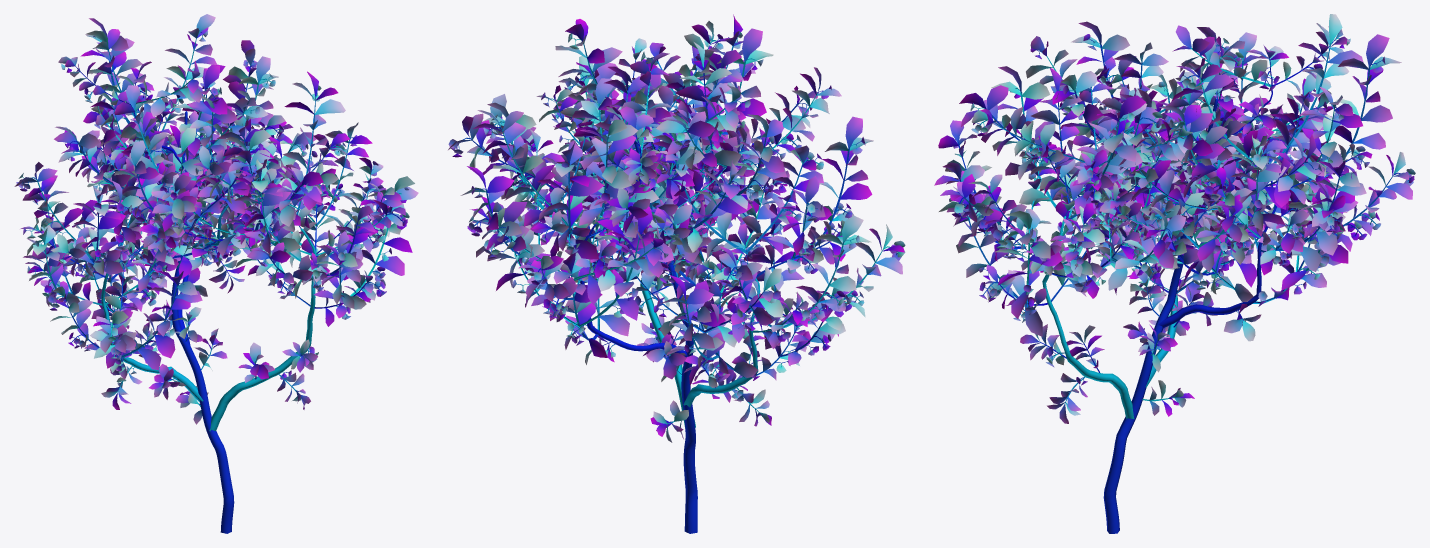
The model's file is wk1ncbxja_VarB_LOD0.fbx.
3 views of the same model, side by side, from view 1: azimuth 30°, elevation 25°; view 2: azimuth 150°, elevation 25°; view 3: azimuth 270°, elevation 25° (orthographic). The views are drawn at different scales.
Parts seen in each view (by area): view 1: _1yzp_VarB_LOD2; view 2: _1yzp_VarB_LOD2; view 3: _1yzp_VarB_LOD2.
Boxes of the visible parts, x1=… form: _1yzp_VarB_LOD2: x1=14, y1=14, x2=418, y2=533; _1yzp_VarB_LOD2: x1=448, y1=14, x2=905, y2=533; _1yzp_VarB_LOD2: x1=934, y1=14, x2=1415, y2=533.
Size of the model in its own units: 177 by 223 by 194.
